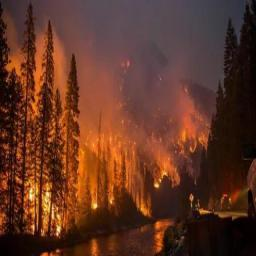Large fire: (0, 25, 255, 255), (0, 0, 255, 209)
Low smoke: (0, 0, 255, 156)
